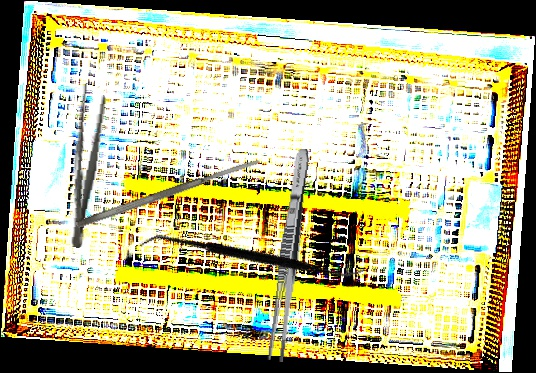Dressing Forceps: (266, 147, 313, 363), (63, 82, 108, 249)
Spatula Surgical: (138, 167, 367, 349), (74, 156, 262, 230)
